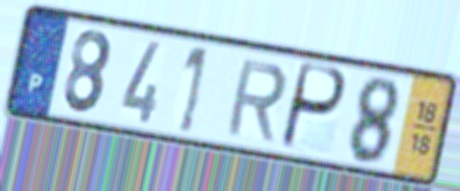1: (178, 44, 211, 136)
4: (119, 39, 162, 125)
8: (348, 74, 402, 167), (61, 29, 112, 116)
P: (276, 60, 350, 155)
R: (222, 57, 290, 145)
